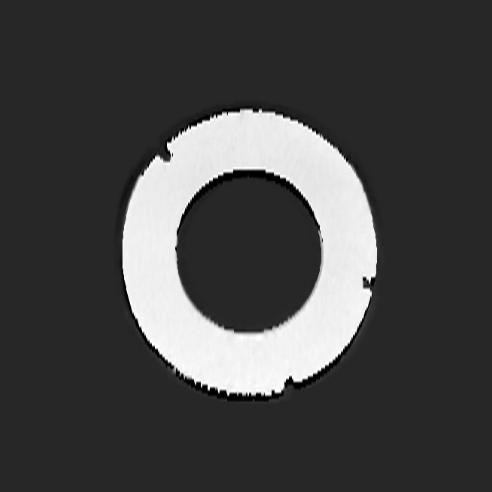defect: (157, 144, 172, 163), (361, 275, 376, 293)
